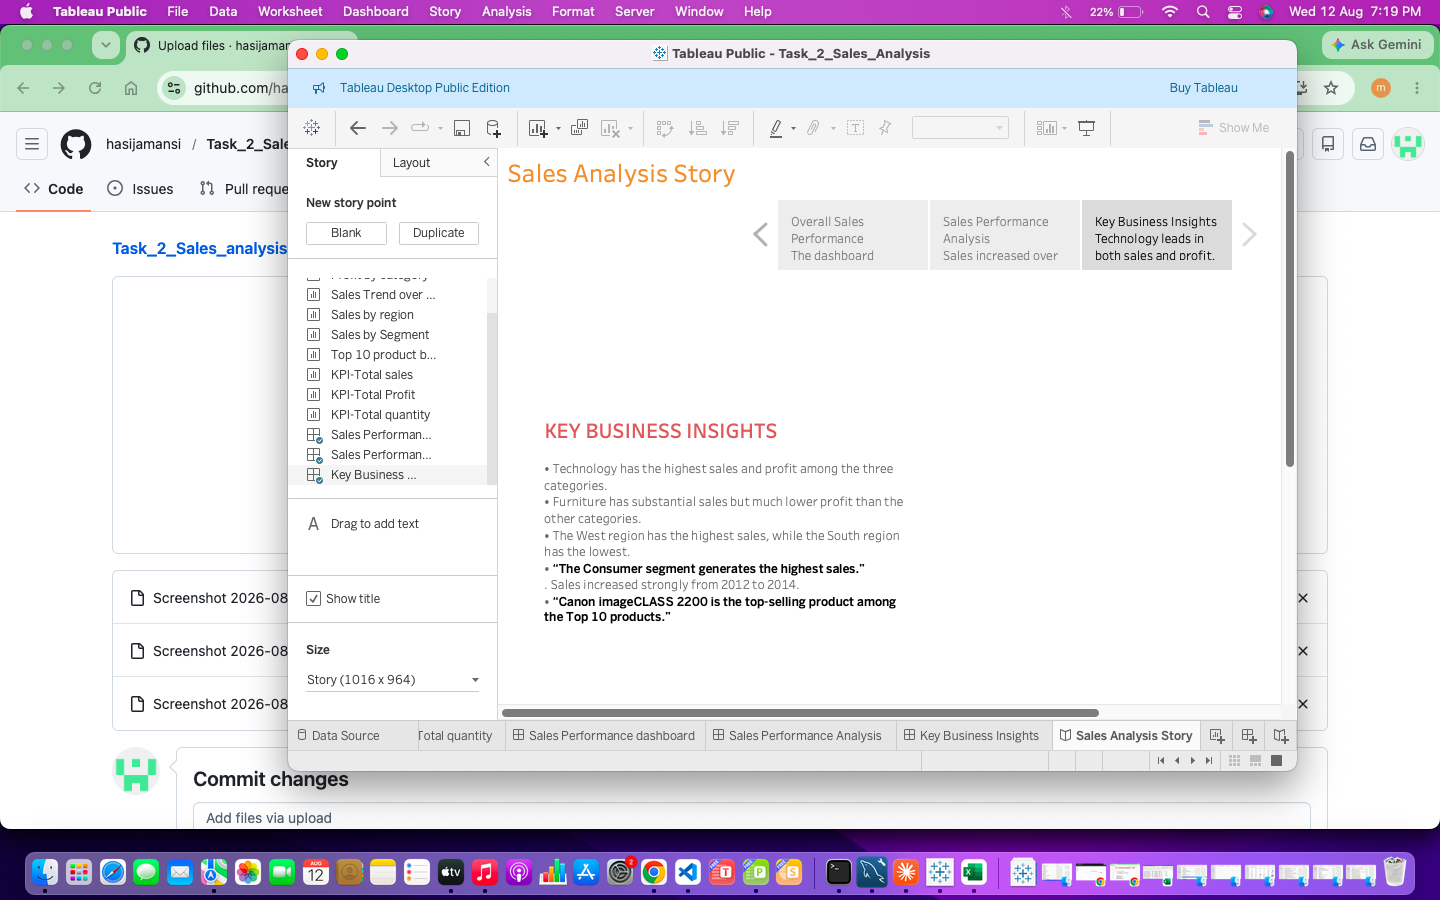

What the dashboard file says about the page in this screenshot:
{"tool":"tableau","page":{"name":"Key Business Insights","canvas":[650,860],"ordinal":0},"visuals":[{"type":"text","box":[37,31.6,365,430]},{"type":"text","box":[197,424,423,430]}]}

Visuals, with their boxes on the page's 650x860 design canvas (x1, y1, x2, y2). These are canvas units, not pixel positions in the 1440x900 screenshot, which may show the page scaled, cropped or inside an application window:
text: <region>37, 32, 402, 462</region>
text: <region>197, 424, 620, 854</region>
